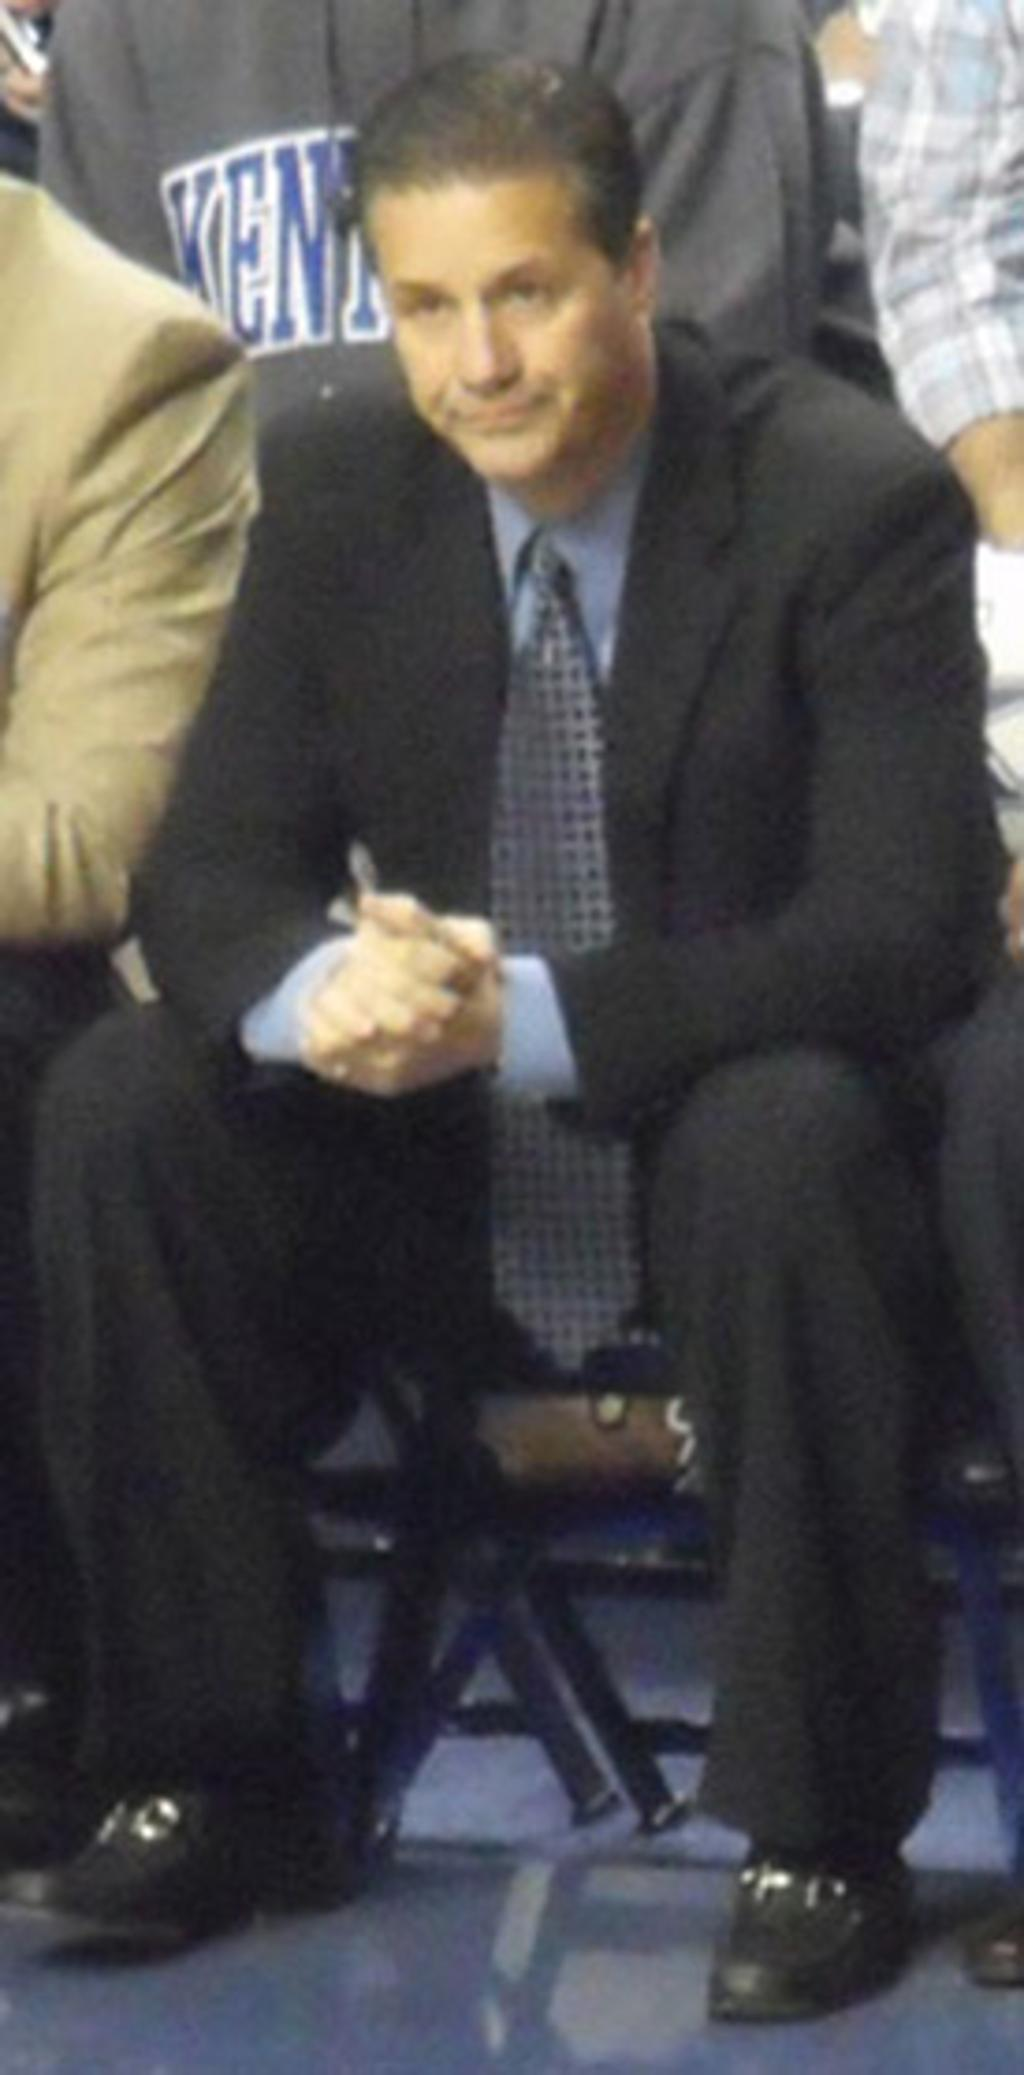face: (380, 194, 631, 469)
